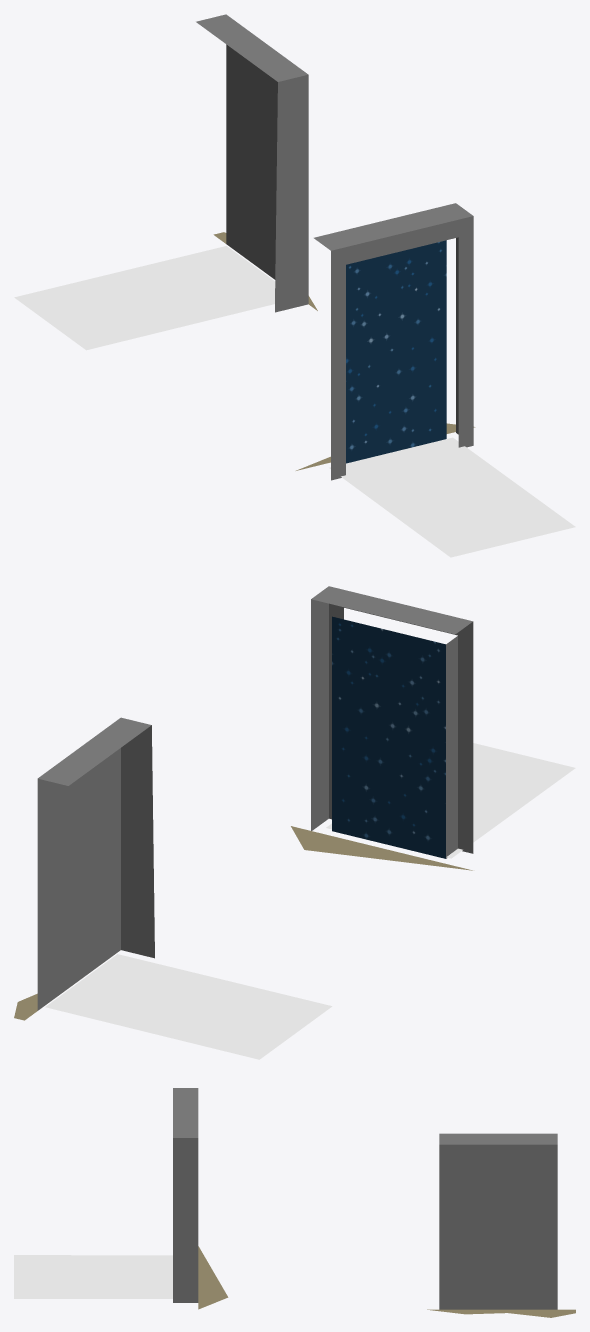
File: Portal_2.fbx
3 renders of one model, top to bottom at view 1: azimuth 30°, elevation 25°; view 2: azimuth 150°, elevation 25°; view 3: azimuth 270°, elevation 25°, orthographic. The views are drawn at different scales.
Visible parts, largest first — view 1: polySurface7604, polySurface7603; view 2: polySurface7604, polySurface7603; view 3: polySurface7603, polySurface7604.
Boxes of the visible parts, x1,y1,x2,y2 form: polySurface7604: (296,203,575,557); polySurface7603: (14,14,317,350); polySurface7604: (291,586,575,870); polySurface7603: (14,717,332,1059); polySurface7603: (427,1133,575,1317); polySurface7604: (14,1088,228,1309).
Size of the model in its own units: 132 by 121 by 372.
